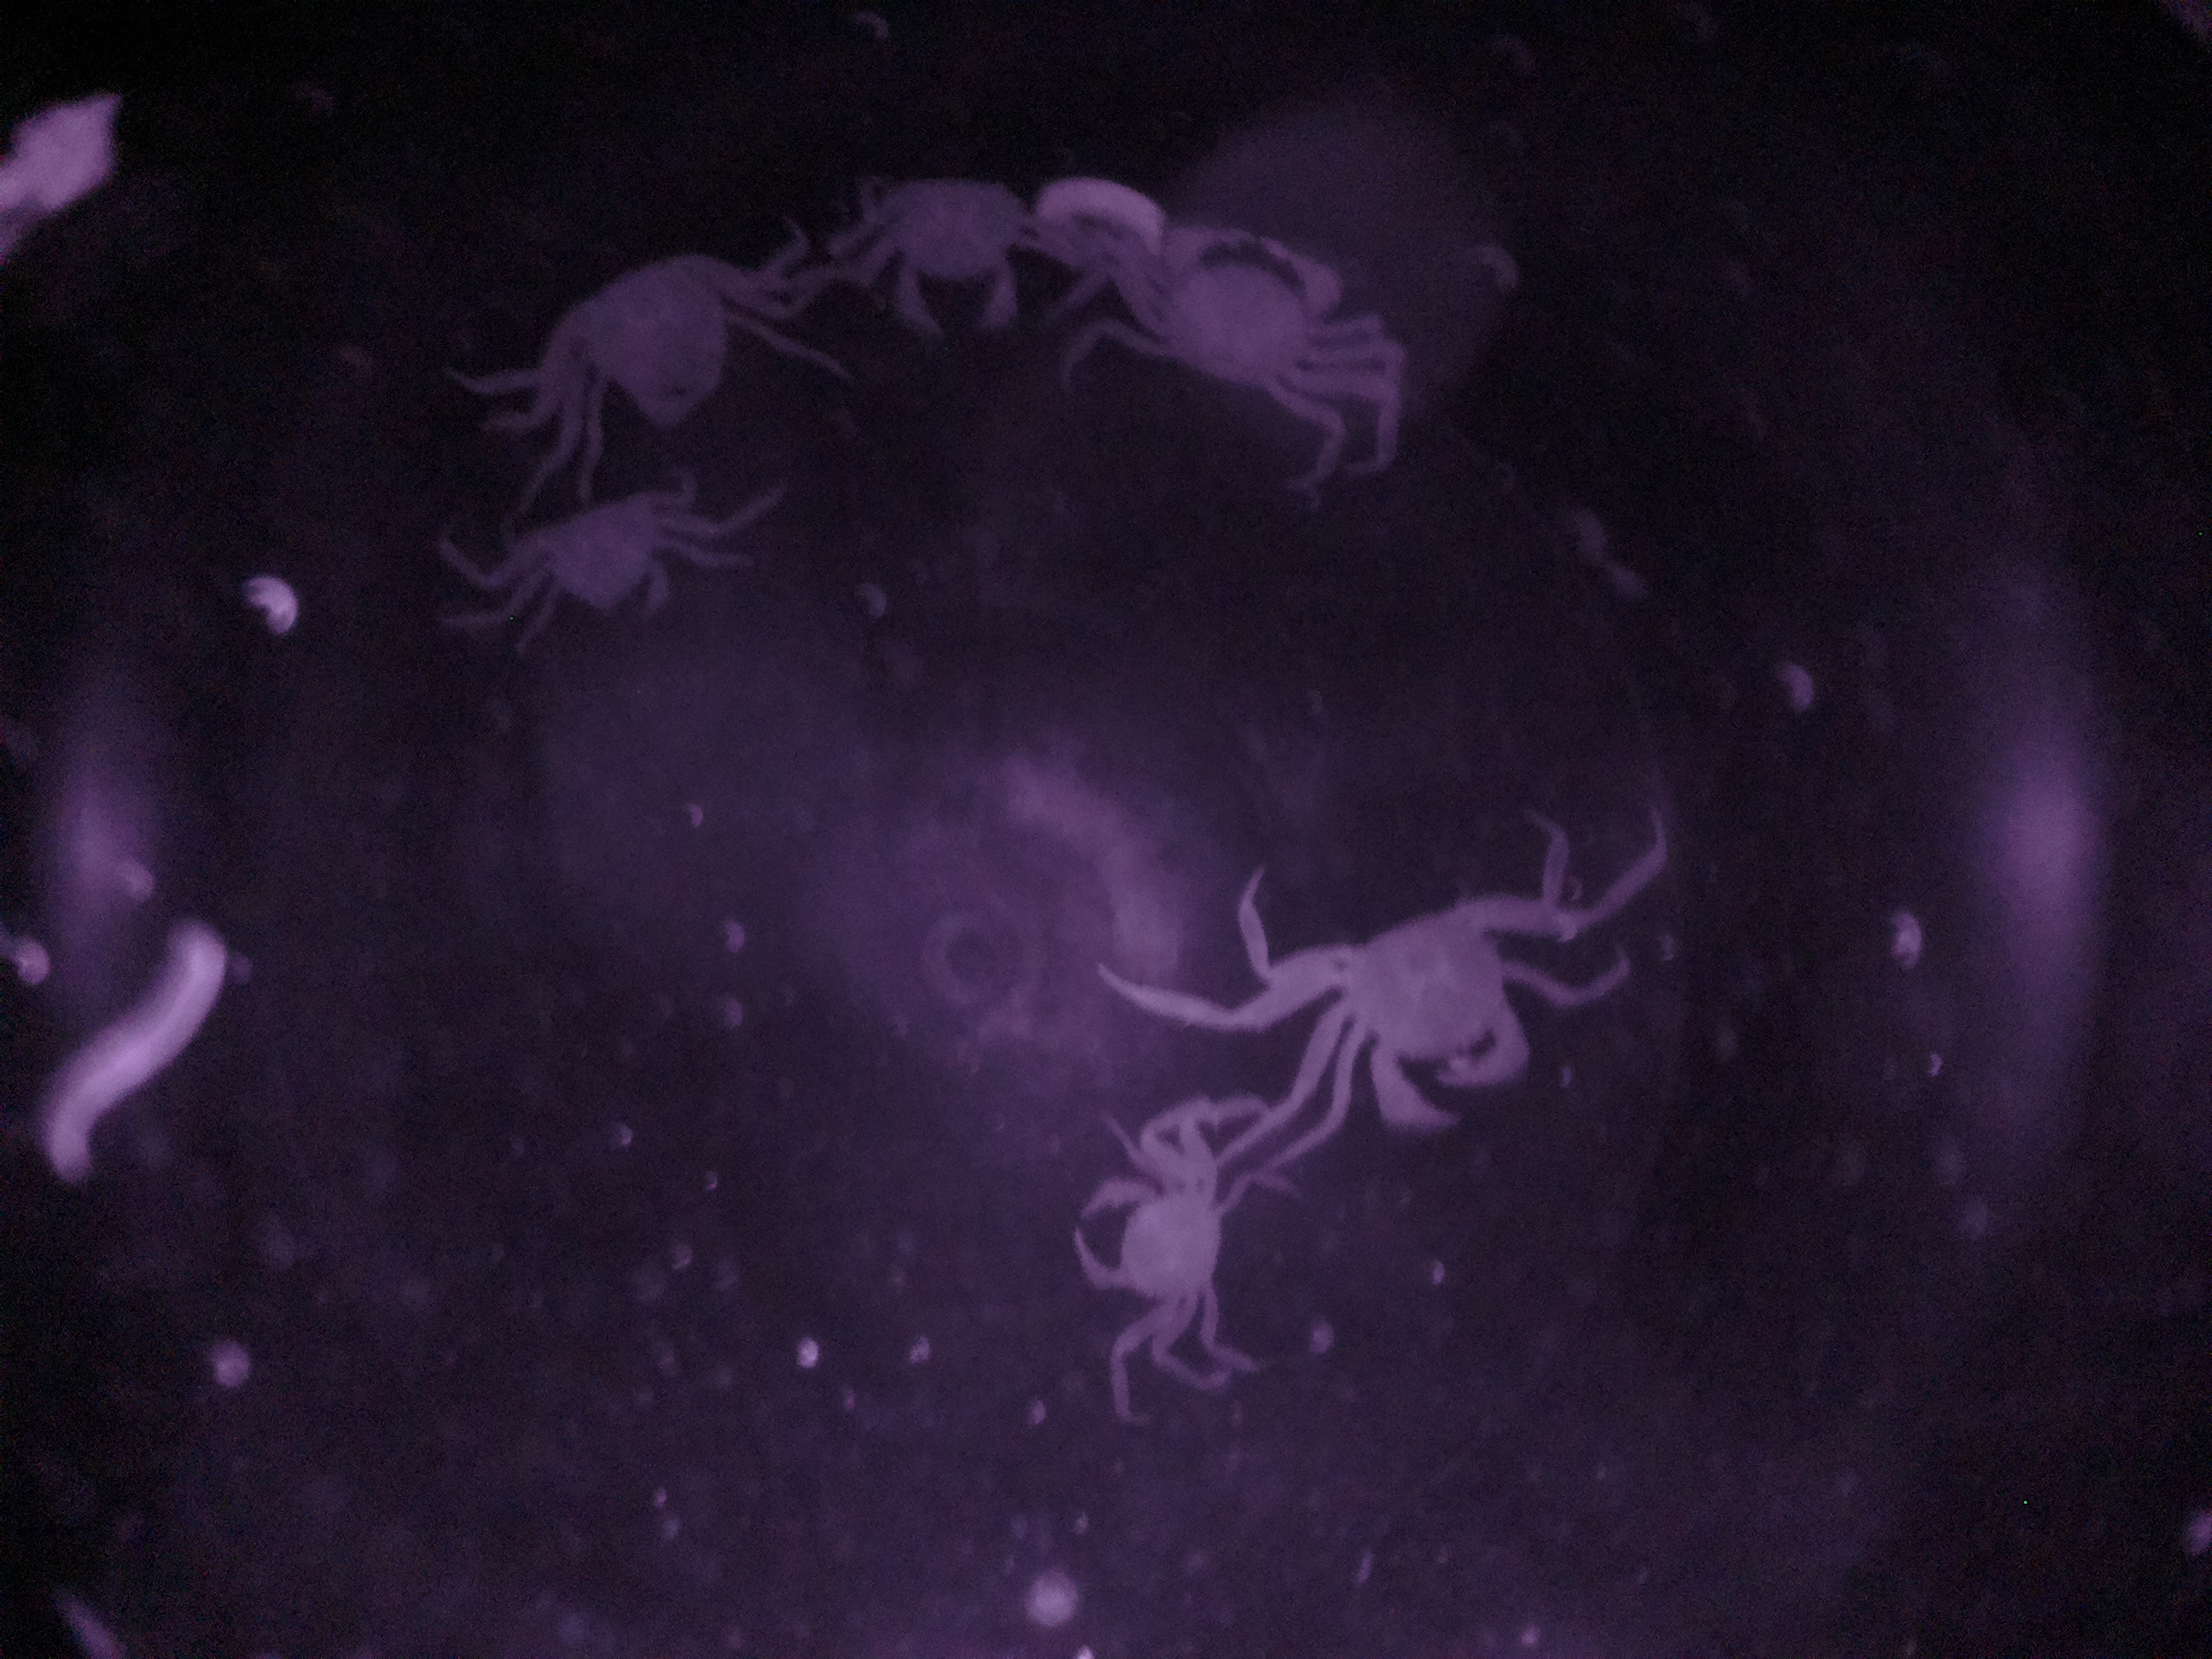Crab: (1263, 842, 1552, 1143), (1104, 202, 1372, 429), (451, 465, 723, 653), (1068, 1107, 1235, 1361)
